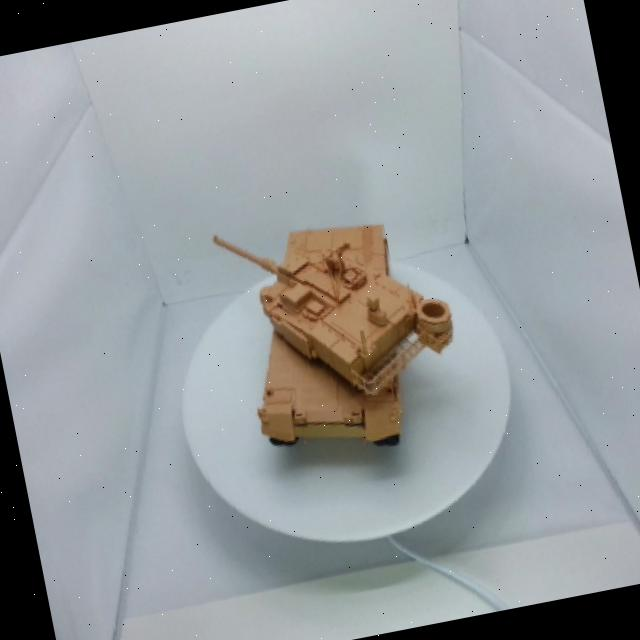korea tank: (128, 152, 506, 503)
